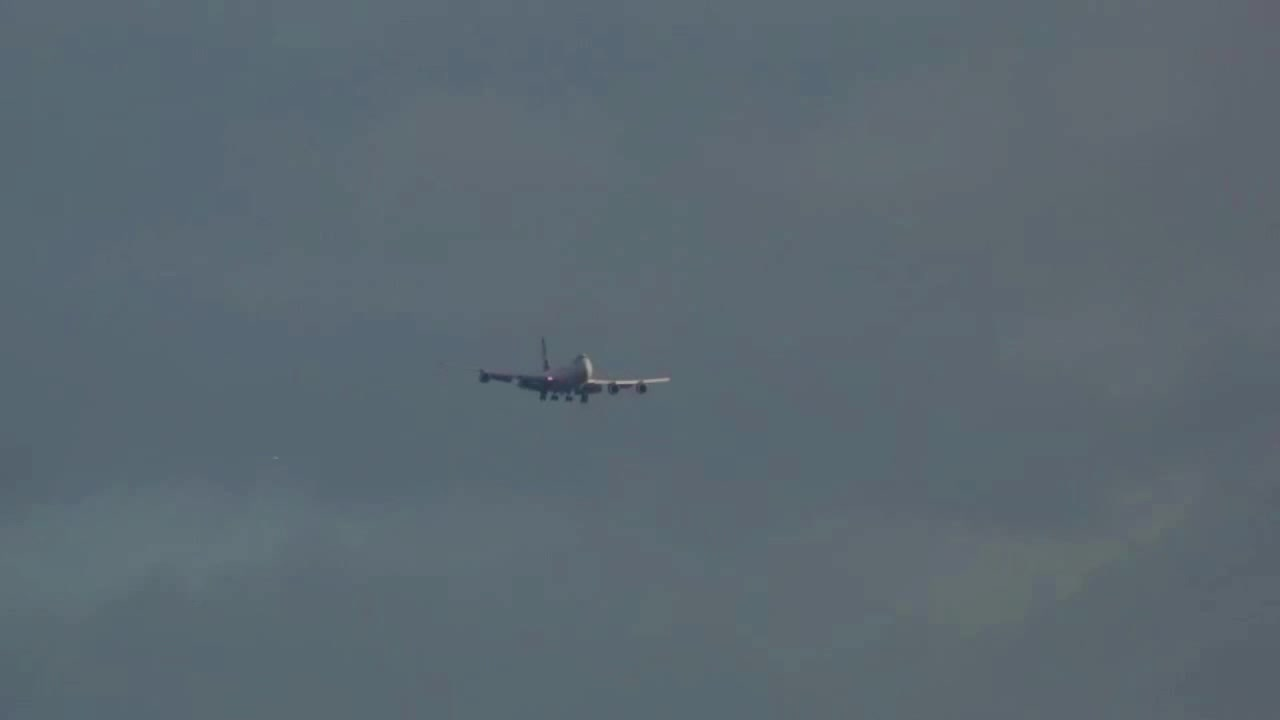aeroplane: (474, 341, 673, 406)
